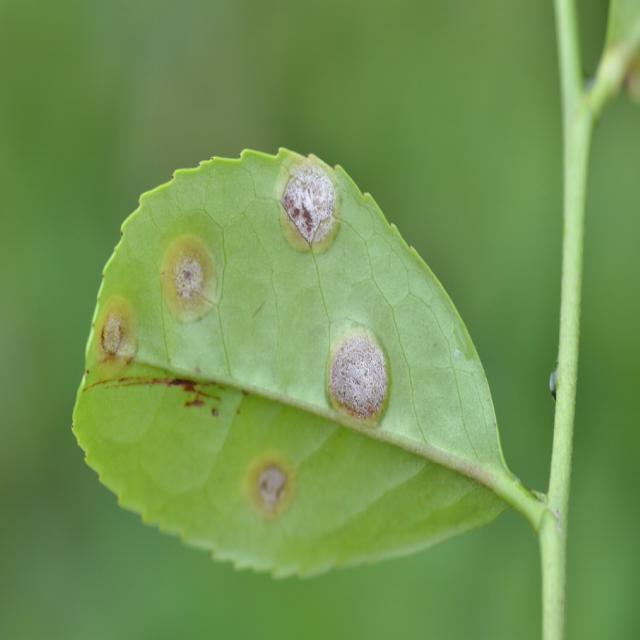Tea cake: (157, 230, 234, 314), (275, 162, 348, 249), (333, 325, 377, 416), (250, 452, 309, 515), (89, 297, 135, 365)
